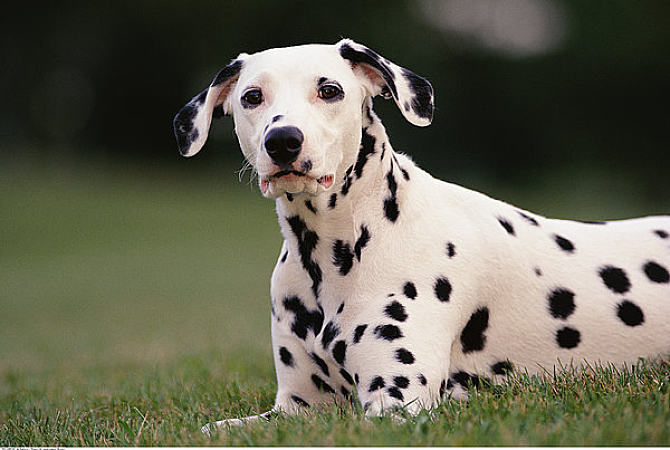dog: (169, 35, 670, 432)
